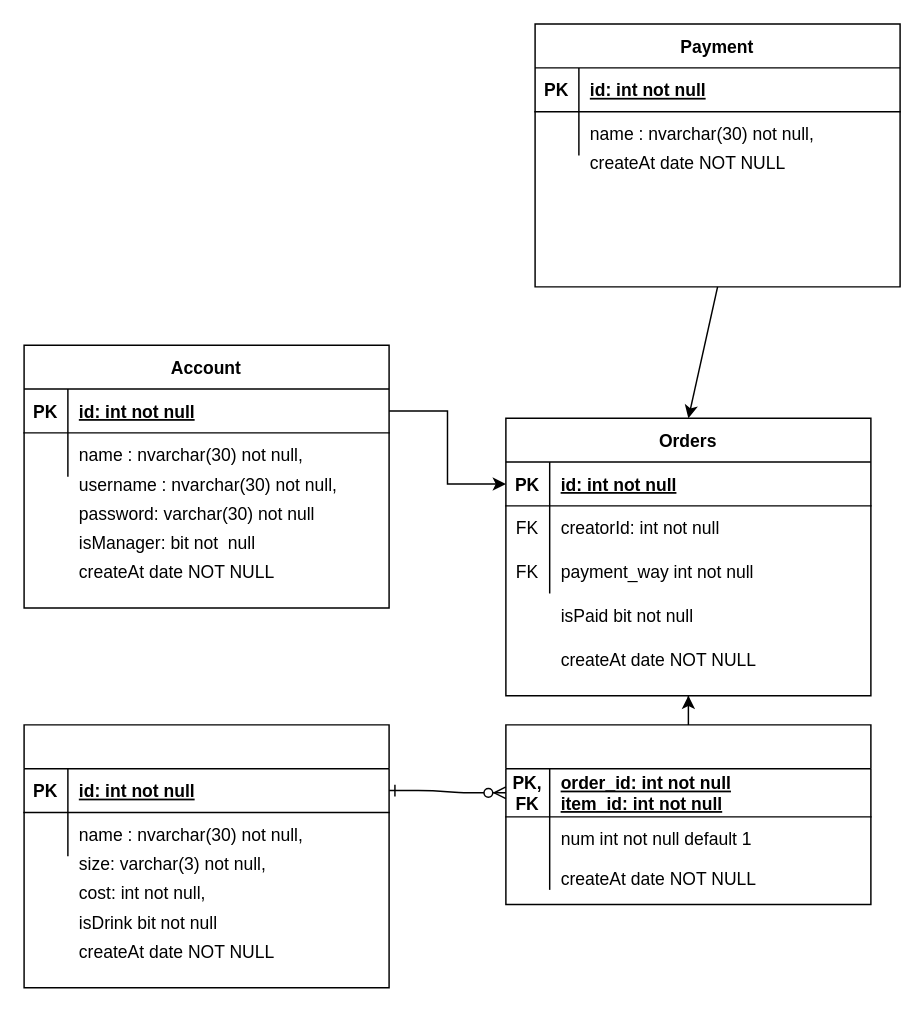
The diagram is 924 pixels wide and 1012 high, and some of its shapes have lost their labels. Each missing label, with the box of its shape:
Item: (23, 723, 389, 988)
Order_Item: (504, 723, 871, 904)
